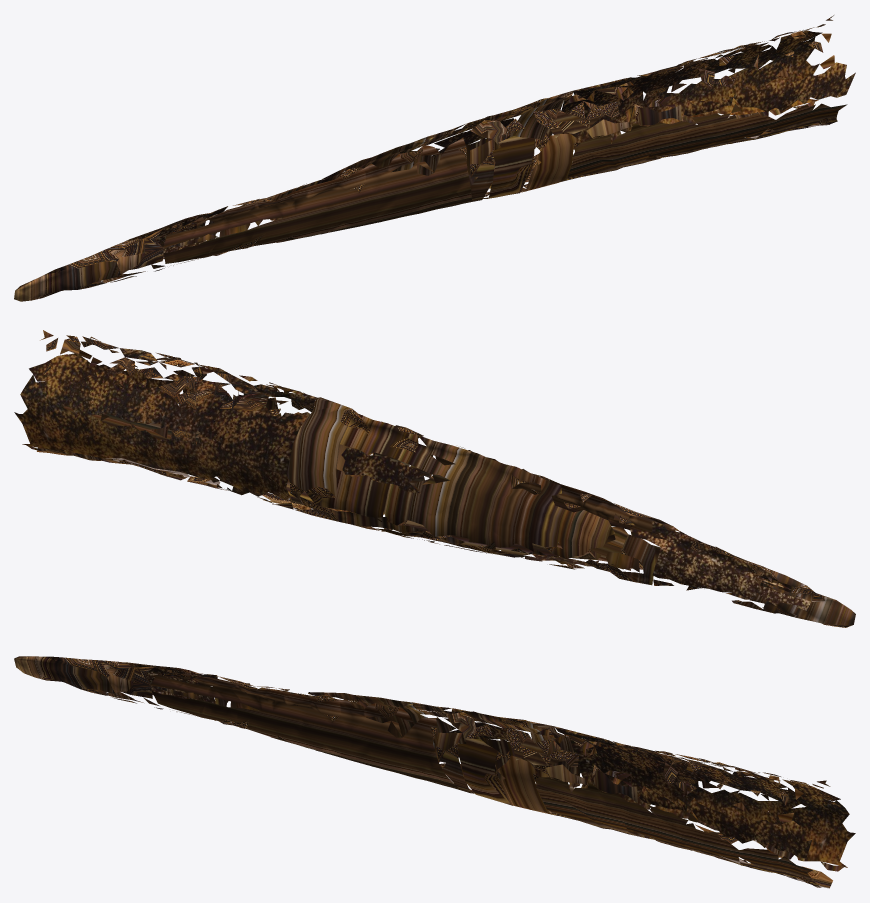
The model's file is moray_b.glb.
3 views of the same model, one above another, from view 1: azimuth 30°, elevation 25°; view 2: azimuth 150°, elevation 25°; view 3: azimuth 330°, elevation 25° (orthographic).
Visible parts, largest first — view 1: moray_b; view 2: moray_b; view 3: moray_b.
Boxes of the visible parts, left/top/right/bottom form: moray_b: left=14, top=15, right=855, bottom=301; moray_b: left=14, top=330, right=855, bottom=627; moray_b: left=14, top=656, right=855, bottom=888.
Size of the model in its own units: 1.07 by 0.1378 by 0.0926.
1 material, 1 textured.
